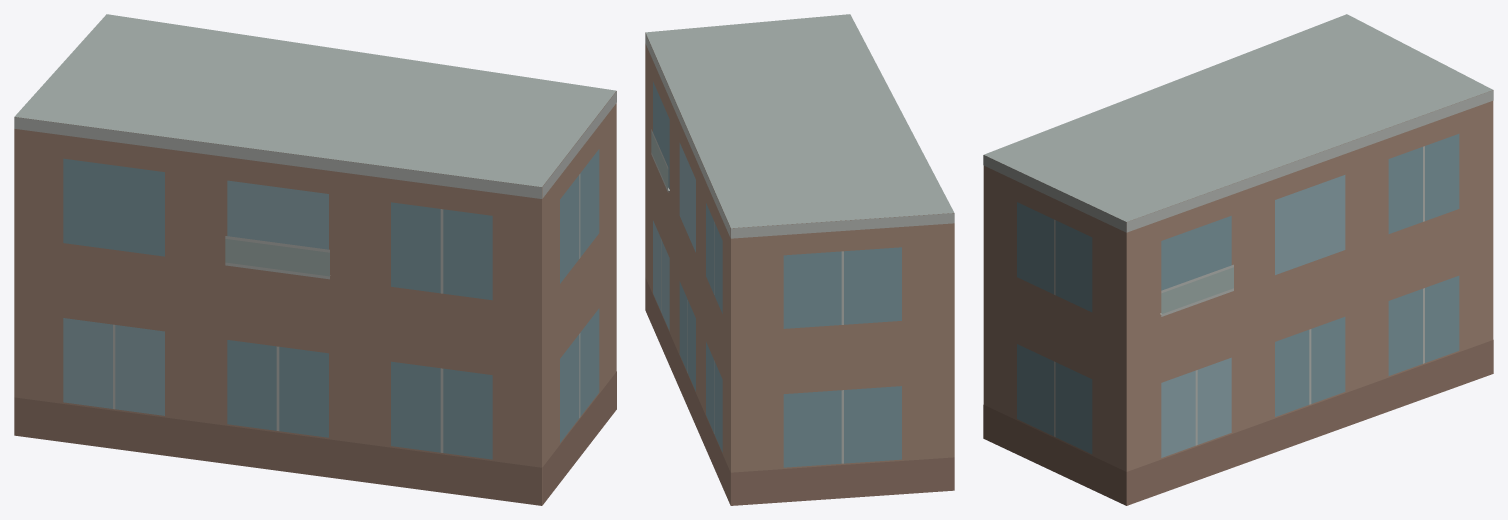
Rendered from survey-upis-32624912.glb.
3 renders of one model, left to right at view 1: azimuth 30°, elevation 25°; view 2: azimuth 150°, elevation 25°; view 3: azimuth 270°, elevation 25°, orthographic. The views are drawn at different scales.
Parts seen in each view (by area): view 1: survey-upis-32624912.tmp; view 2: survey-upis-32624912.tmp; view 3: survey-upis-32624912.tmp.
Part boxes in pixels (x1,y1,x2,y2): survey-upis-32624912.tmp: [14, 14, 616, 505]; survey-upis-32624912.tmp: [645, 14, 954, 505]; survey-upis-32624912.tmp: [983, 14, 1493, 505].
Bounding box in the file's own units: 10.23 × 6.5 × 10.59.
